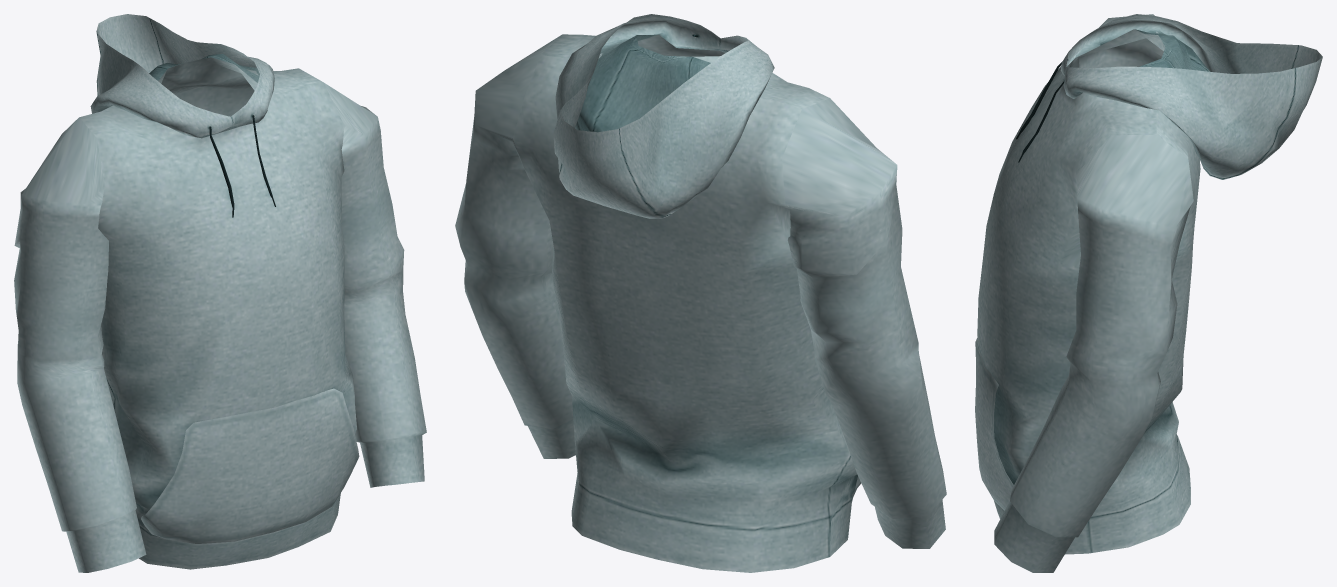
Rendered from Hoodie_Pearl.glb.
The picture shows the model from 3 angles, left to right: view 1: azimuth 30°, elevation 25°; view 2: azimuth 150°, elevation 25°; view 3: azimuth 270°, elevation 25°; orthographic projection. The views are drawn at different scales.
Parts seen in each view (by area): view 1: Hoodie_Geo; view 2: Hoodie_Geo; view 3: Hoodie_Geo.
Boxes of the visible parts, x1,y1,x2,y2 form: Hoodie_Geo: (14, 14, 426, 572); Hoodie_Geo: (455, 14, 946, 572); Hoodie_Geo: (975, 14, 1322, 572).
Size of the model in its own units: 0.4784 by 0.5355 by 0.3581.
1 material, 1 textured.
